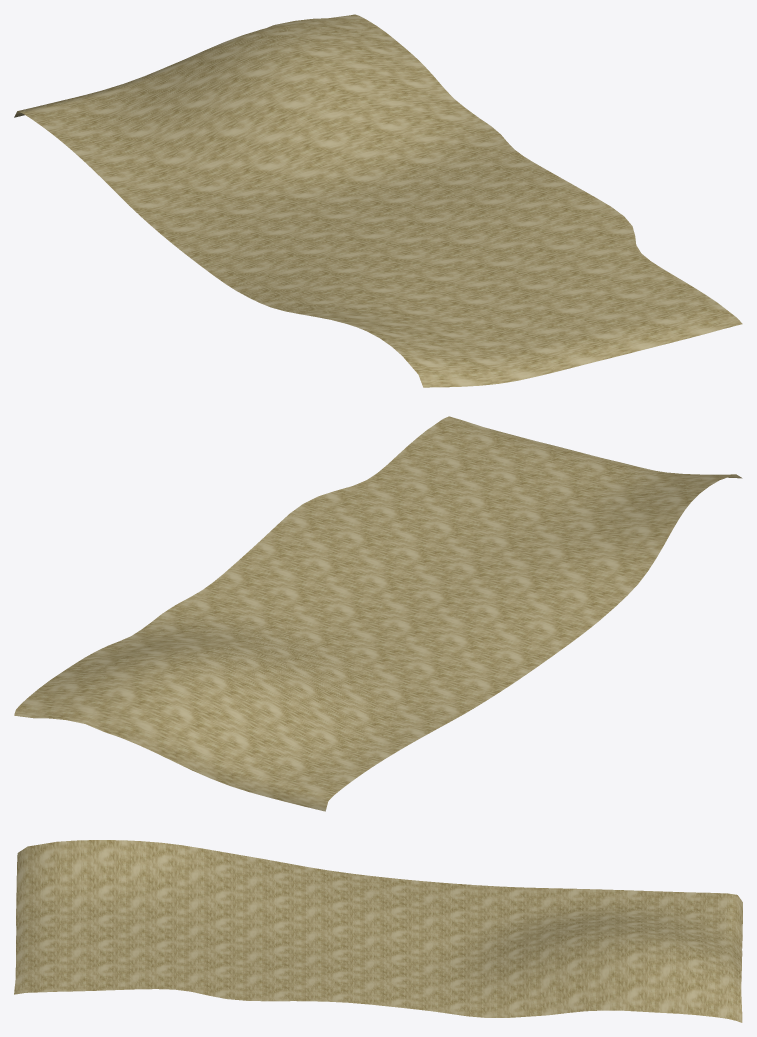
File: SM_ENV_KNFRST_Cliff_Ab.FBX
The picture shows the model from 3 angles, top to bottom: view 1: azimuth 30°, elevation 25°; view 2: azimuth 150°, elevation 25°; view 3: azimuth 270°, elevation 25°; orthographic projection. The views are drawn at different scales.
Parts seen in each view (by area): view 1: SM_ENV_KNFRST_Cliff_Ab; view 2: SM_ENV_KNFRST_Cliff_Ab; view 3: SM_ENV_KNFRST_Cliff_Ab.
Part boxes in pixels (x1=…): SM_ENV_KNFRST_Cliff_Ab: x1=14, y1=14, x2=742, y2=387; SM_ENV_KNFRST_Cliff_Ab: x1=14, y1=416, x2=742, y2=811; SM_ENV_KNFRST_Cliff_Ab: x1=14, y1=840, x2=742, y2=1022.
Bounding box in the file's own units: 5125 × 848 × 10178.
